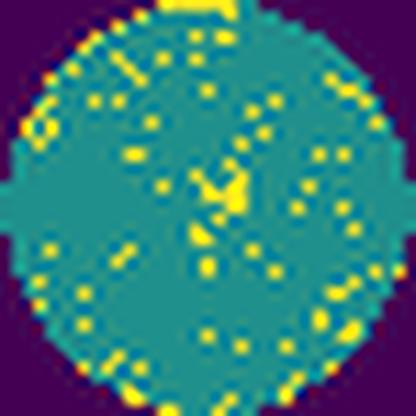Center: (190, 158, 256, 228)
